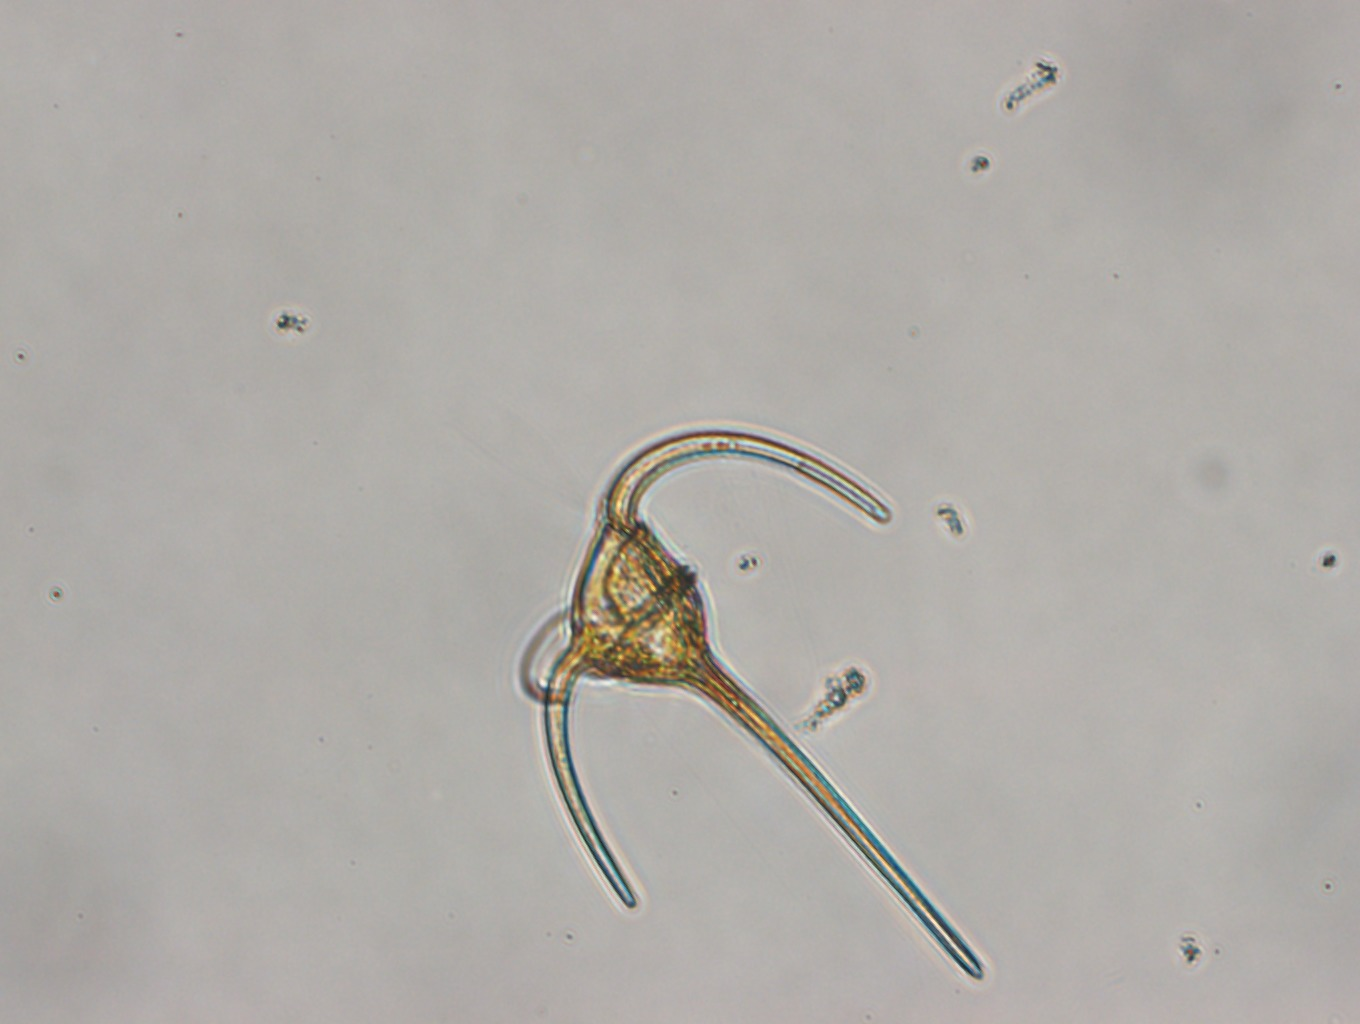ceratium trichoceros: (542, 428, 984, 982)
